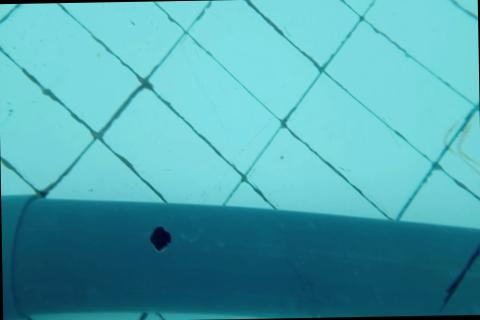kebocoran: (148, 224, 172, 256)
keretakan: (435, 240, 480, 316)
